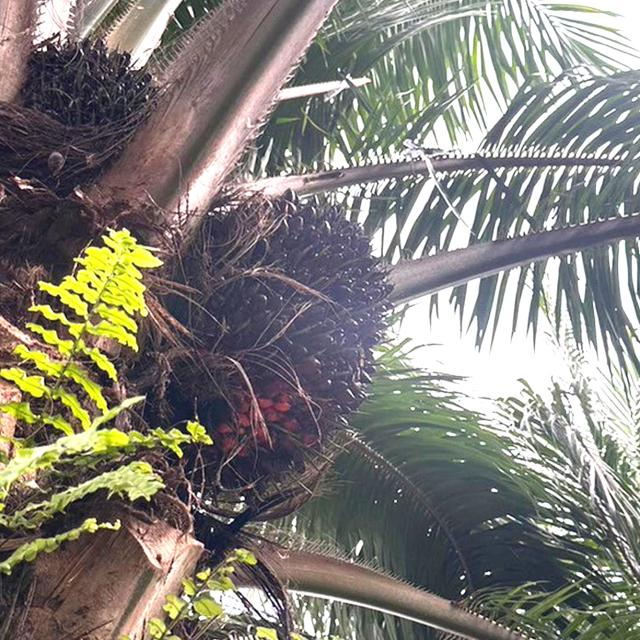ripe: (150, 168, 410, 487)
